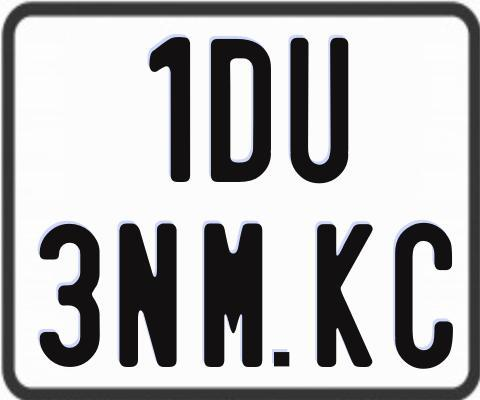1: (146, 35, 193, 180)
3: (39, 223, 102, 368)
C: (393, 220, 454, 366)
D: (209, 38, 273, 185)
K: (314, 223, 372, 372)
M: (202, 223, 265, 367)
N: (119, 223, 182, 369)
U: (289, 38, 350, 189)
